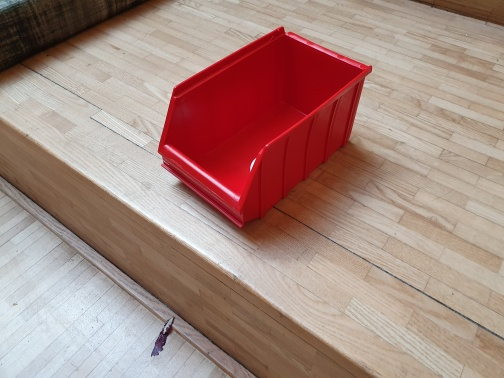tray_front: (157, 83, 262, 231)
tray_right: (239, 60, 375, 230)
